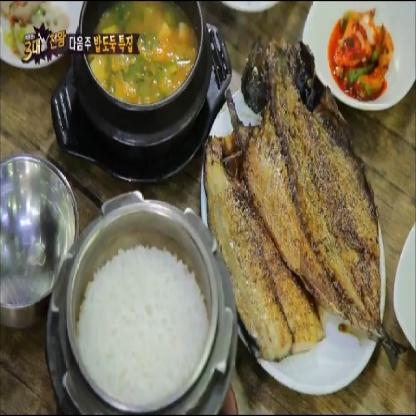Peixe: (208, 42, 405, 400)
